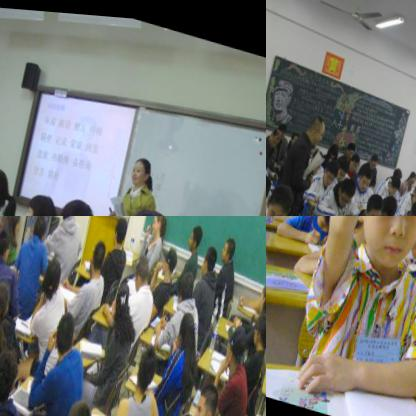head: (341, 216, 416, 271), (219, 309, 252, 370), (129, 337, 159, 394), (49, 302, 80, 355), (109, 194, 181, 216), (50, 187, 102, 216), (186, 374, 221, 416), (0, 342, 20, 409), (37, 247, 64, 296), (20, 184, 59, 216), (106, 273, 132, 319), (172, 262, 199, 306), (172, 305, 198, 350), (125, 148, 155, 185), (266, 177, 293, 216), (54, 395, 100, 416), (128, 252, 152, 291), (0, 158, 15, 216), (360, 184, 386, 216), (157, 239, 179, 276), (248, 301, 266, 346), (304, 109, 326, 145), (308, 216, 348, 235), (0, 278, 13, 334), (333, 171, 355, 204), (183, 217, 205, 249), (86, 237, 106, 272), (375, 185, 397, 216), (198, 240, 218, 272), (354, 159, 374, 190), (320, 151, 338, 185), (219, 227, 237, 261), (0, 227, 14, 268), (109, 216, 128, 245), (28, 216, 47, 240), (0, 216, 21, 237), (147, 216, 167, 237), (254, 275, 266, 309), (266, 123, 282, 148), (307, 148, 323, 173), (334, 156, 349, 179), (343, 135, 358, 157), (326, 134, 340, 156), (402, 194, 416, 216), (272, 119, 286, 140), (346, 148, 360, 169), (386, 171, 400, 192), (366, 149, 380, 167), (390, 161, 403, 178), (405, 164, 416, 182), (410, 179, 416, 202), (289, 129, 297, 142)
